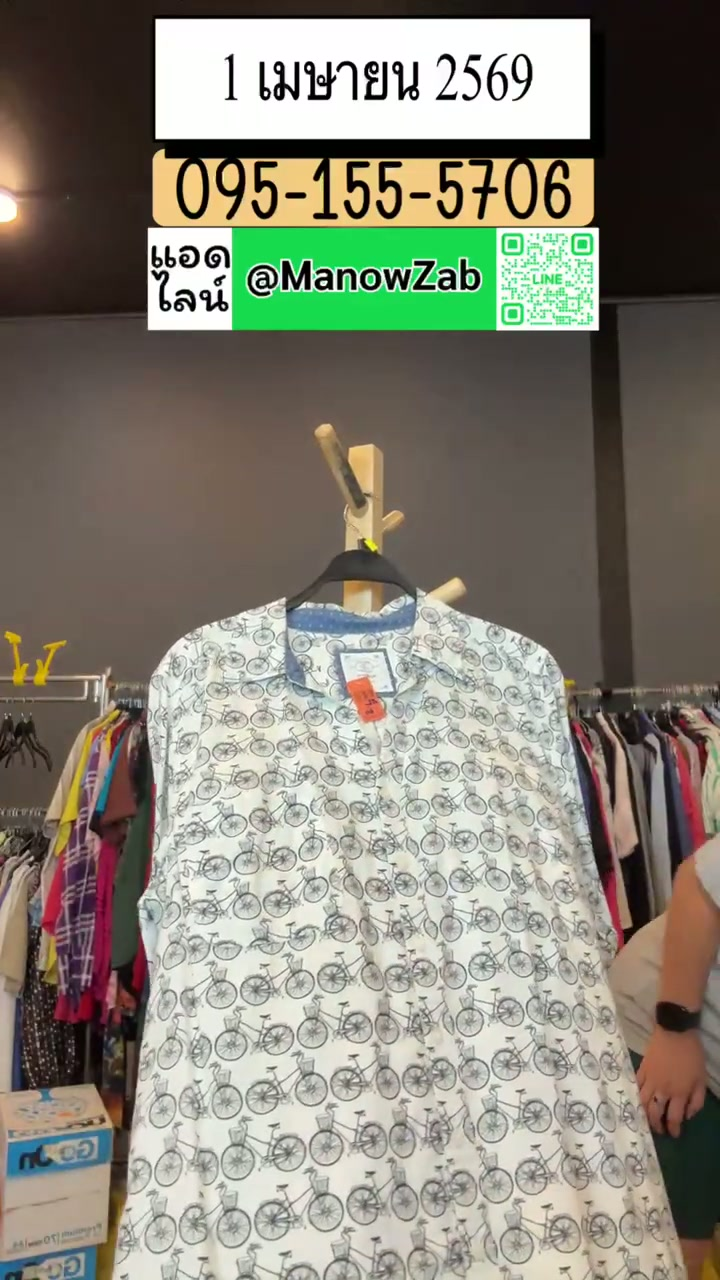display_shirt: (113, 593, 683, 1279)
